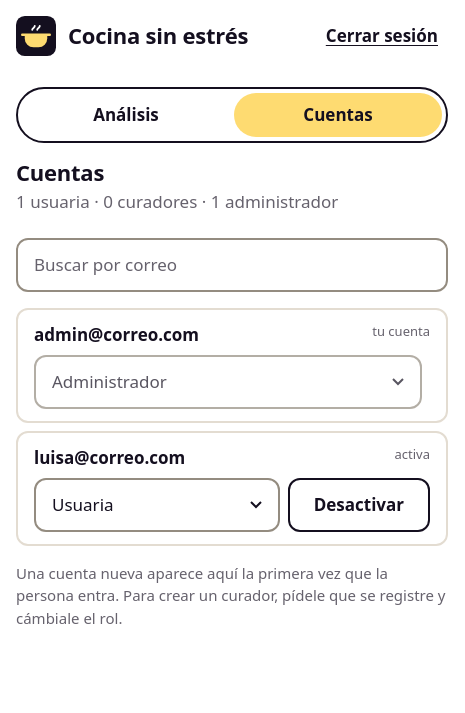
Test: Cuentas y roles (rol ADMIN) › explica el error si el backend rechaza el cambio
Click the button with aria-label "Desactivar luisa@correo.com". click: (359, 505)
box: x1=288 y1=478 x2=430 y2=532
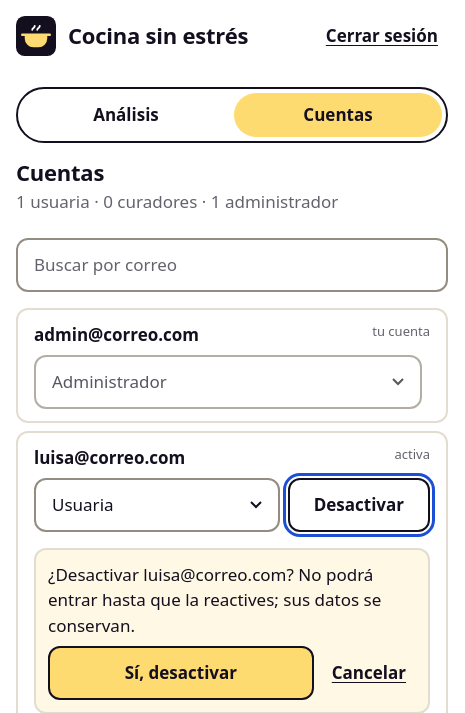
Click the button "Sí, desactivar". click: (181, 673)
box: x1=48 y1=646 x2=314 y2=700
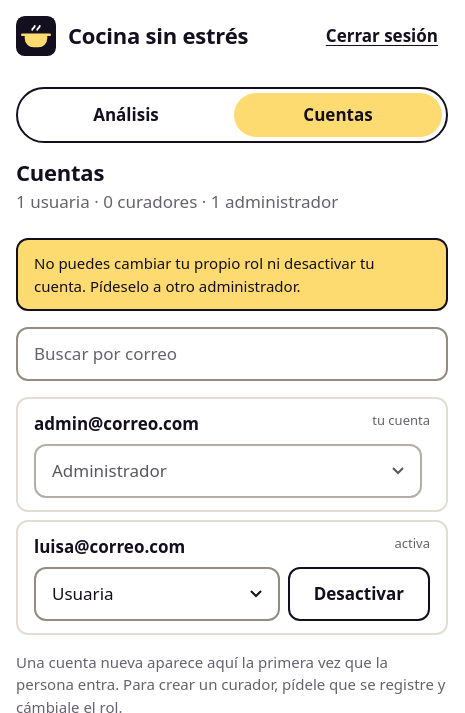
Expected: the message shows "No puedes cambiar tu propio rol", x1=34 y1=253 x2=375 y2=296
